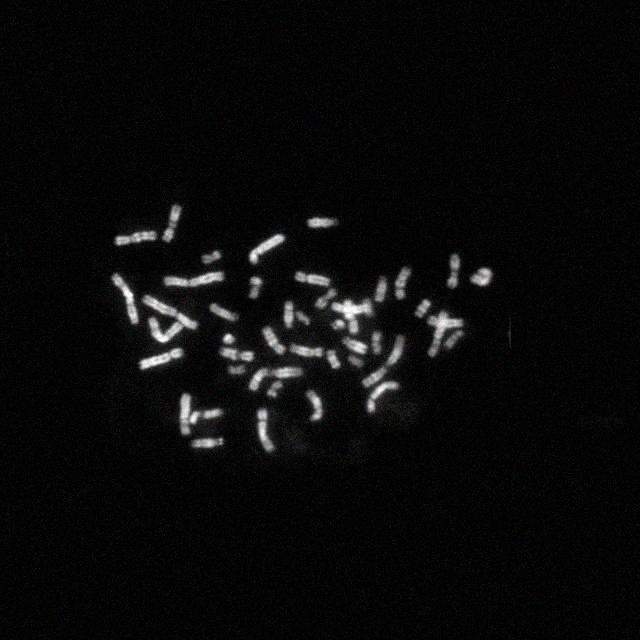chromosome: (362, 334, 404, 386), (142, 296, 198, 328), (112, 274, 138, 324), (250, 368, 302, 390), (248, 233, 284, 264), (426, 310, 448, 356), (366, 383, 399, 413), (140, 348, 184, 368), (148, 318, 182, 342), (165, 272, 223, 286), (256, 409, 274, 453), (163, 203, 181, 243), (115, 229, 155, 245), (264, 326, 284, 354), (295, 272, 329, 288), (344, 298, 358, 334), (190, 410, 226, 424), (210, 304, 240, 320), (315, 286, 335, 310), (306, 391, 322, 421), (220, 347, 253, 361), (426, 316, 464, 328), (332, 302, 370, 314), (395, 268, 409, 300), (446, 254, 459, 288), (180, 394, 190, 436), (342, 338, 368, 354), (290, 344, 322, 356), (308, 216, 338, 228), (471, 268, 491, 286), (444, 330, 462, 348), (191, 438, 223, 448), (375, 277, 387, 303), (248, 276, 260, 300), (284, 300, 294, 328), (227, 363, 247, 375), (372, 331, 382, 355), (328, 349, 340, 369), (416, 300, 430, 316), (348, 355, 364, 369), (364, 298, 374, 320), (296, 312, 310, 326), (203, 252, 219, 264), (268, 382, 280, 398), (332, 320, 346, 330), (222, 334, 234, 344)
